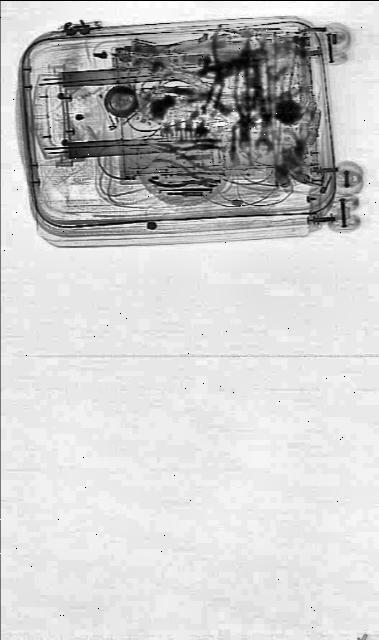Pliers: (147, 125, 223, 179), (146, 154, 218, 198)
Wrench: (253, 92, 275, 154)
